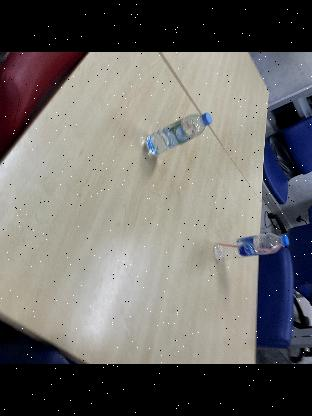Plastic Bottle: (144, 113, 212, 159), (212, 232, 288, 262)
